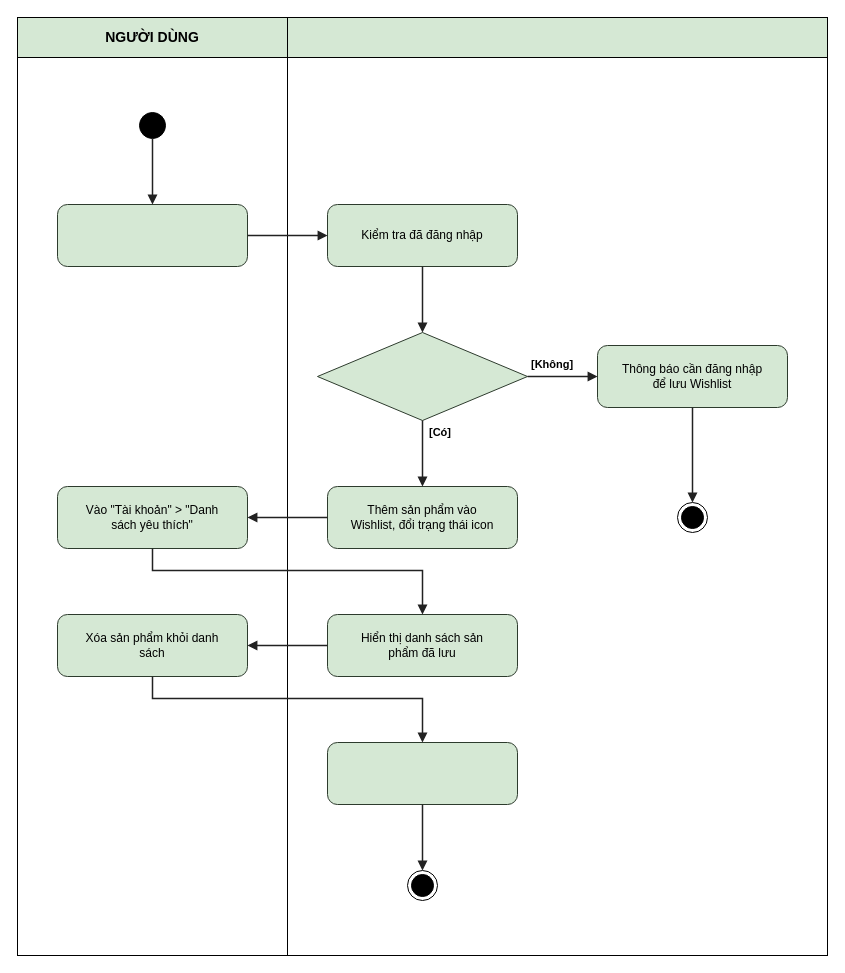
This 845x973 diagram has some shape labels left out. Each missing label, with the box of its shape:
Click icon "Trái tim" ở trang chi tiết sản phẩm: (56, 204, 248, 266)
Cập nhật Wishlist: (326, 742, 518, 804)
HỆ THỐNG: (286, 16, 828, 58)
Đã đăng nhập?: (316, 332, 528, 420)
